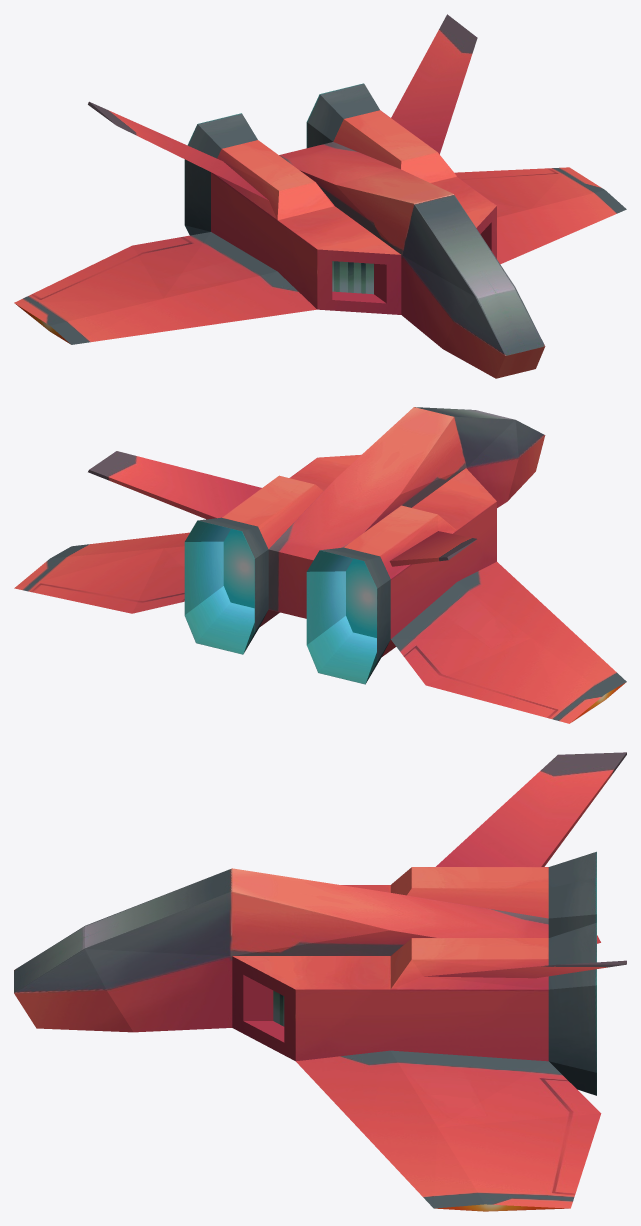
The model's file is spaceship1Triangles.obj.
3 views of the same model, one above another, from view 1: azimuth 30°, elevation 25°; view 2: azimuth 150°, elevation 25°; view 3: azimuth 270°, elevation 25° (orthographic). The views are drawn at different scales.
Parts seen in each view (by area): view 1: ship_Cube.001; view 2: ship_Cube.001; view 3: ship_Cube.001.
Part boxes in pixels (x1,y1,x2,y2): ship_Cube.001: [14, 14, 626, 378]; ship_Cube.001: [14, 407, 626, 723]; ship_Cube.001: [14, 752, 626, 1211].
Bounding box in the file's own units: 4.83 × 1.35 × 3.87.
Materials: 1 (1 with a texture image).
